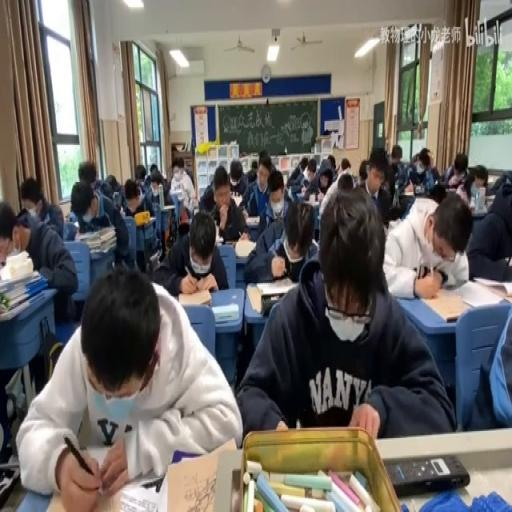calculator: (164, 441, 238, 512), (458, 278, 508, 308), (422, 289, 467, 321), (178, 287, 212, 307), (256, 278, 294, 294), (212, 300, 238, 322), (244, 284, 262, 314), (234, 236, 256, 258), (90, 244, 115, 258), (398, 192, 414, 213), (135, 213, 157, 226), (96, 226, 115, 240), (470, 204, 489, 218), (74, 227, 96, 239), (288, 180, 302, 198), (244, 215, 260, 226), (149, 249, 159, 266), (222, 238, 236, 248), (64, 220, 78, 230), (306, 196, 320, 205), (402, 184, 414, 194), (484, 195, 494, 206), (414, 184, 424, 194), (444, 185, 458, 192), (214, 234, 223, 244), (160, 204, 174, 210)
paper: (16, 264, 238, 508), (234, 186, 444, 442), (0, 194, 78, 324), (462, 293, 510, 429), (152, 208, 226, 296), (68, 178, 130, 273), (259, 195, 317, 284), (466, 174, 512, 280), (342, 145, 389, 219), (244, 155, 278, 225), (169, 155, 195, 225), (404, 145, 438, 193), (302, 158, 337, 199), (144, 164, 174, 204), (122, 178, 148, 222), (226, 158, 248, 203), (444, 151, 470, 189), (384, 142, 403, 191), (286, 154, 308, 186), (486, 169, 510, 195), (77, 159, 96, 191), (199, 181, 216, 212), (429, 183, 448, 205), (336, 170, 354, 190), (104, 174, 120, 196), (473, 164, 486, 186), (456, 185, 470, 205), (358, 158, 369, 182), (134, 164, 146, 184), (326, 154, 335, 172), (246, 168, 257, 182), (258, 150, 268, 164), (410, 150, 420, 164), (341, 156, 350, 170), (422, 151, 431, 165), (306, 168, 315, 179), (150, 165, 156, 179), (250, 158, 256, 169), (334, 164, 339, 174)
person: (386, 454, 470, 496), (0, 465, 19, 509), (260, 292, 285, 314), (16, 206, 27, 219), (446, 313, 458, 321)
